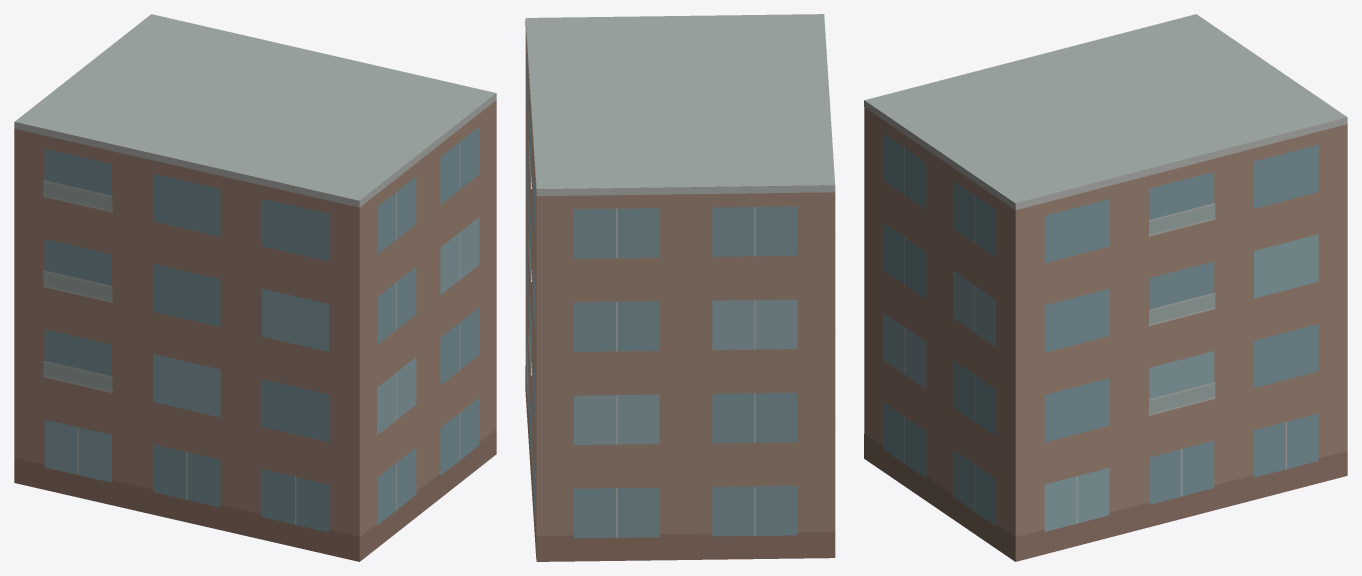
File: survey-upis-32713775.glb
3 renders of one model, left to right at view 1: azimuth 30°, elevation 25°; view 2: azimuth 150°, elevation 25°; view 3: azimuth 270°, elevation 25°, orthographic. The views are drawn at different scales.
Parts seen in each view (by area): view 1: survey-upis-32713775.tmp; view 2: survey-upis-32713775.tmp; view 3: survey-upis-32713775.tmp.
Boxes of the visible parts, x1,y1,x2,y2 form: survey-upis-32713775.tmp: (14, 14, 496, 561); survey-upis-32713775.tmp: (525, 14, 835, 561); survey-upis-32713775.tmp: (864, 14, 1347, 561).
Bounding box in the file's own units: 14.52 × 12.8 × 15.65.
